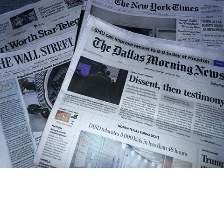news_paper: (28, 11, 224, 169), (0, 21, 92, 170), (73, 0, 223, 51), (0, 0, 87, 54)
